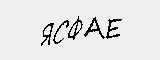А: (84, 15, 105, 38)
Е: (106, 18, 122, 39)
С: (51, 17, 69, 45)
Ф: (68, 15, 83, 41)
Я: (39, 22, 53, 50)
